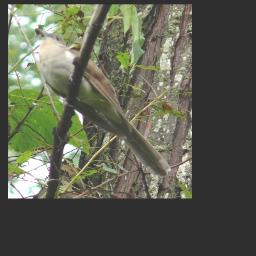Cuckoo: (35, 28, 171, 178)
